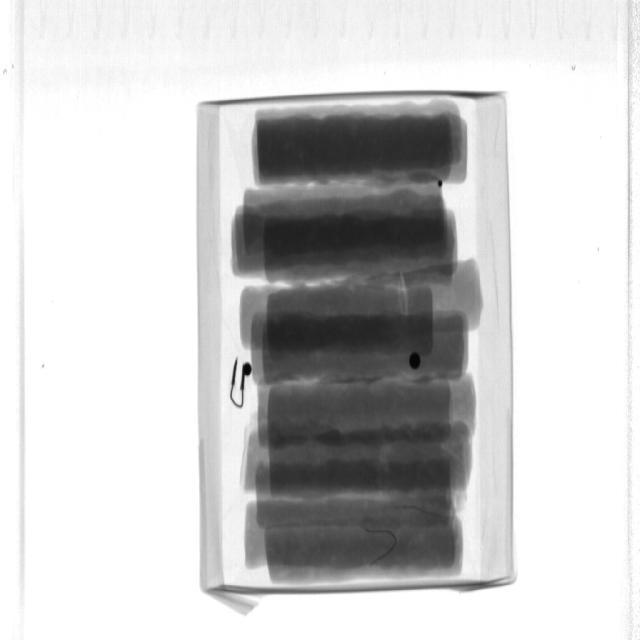ym: (365, 524, 396, 564), (231, 359, 253, 408), (411, 352, 422, 370), (438, 181, 445, 188)
